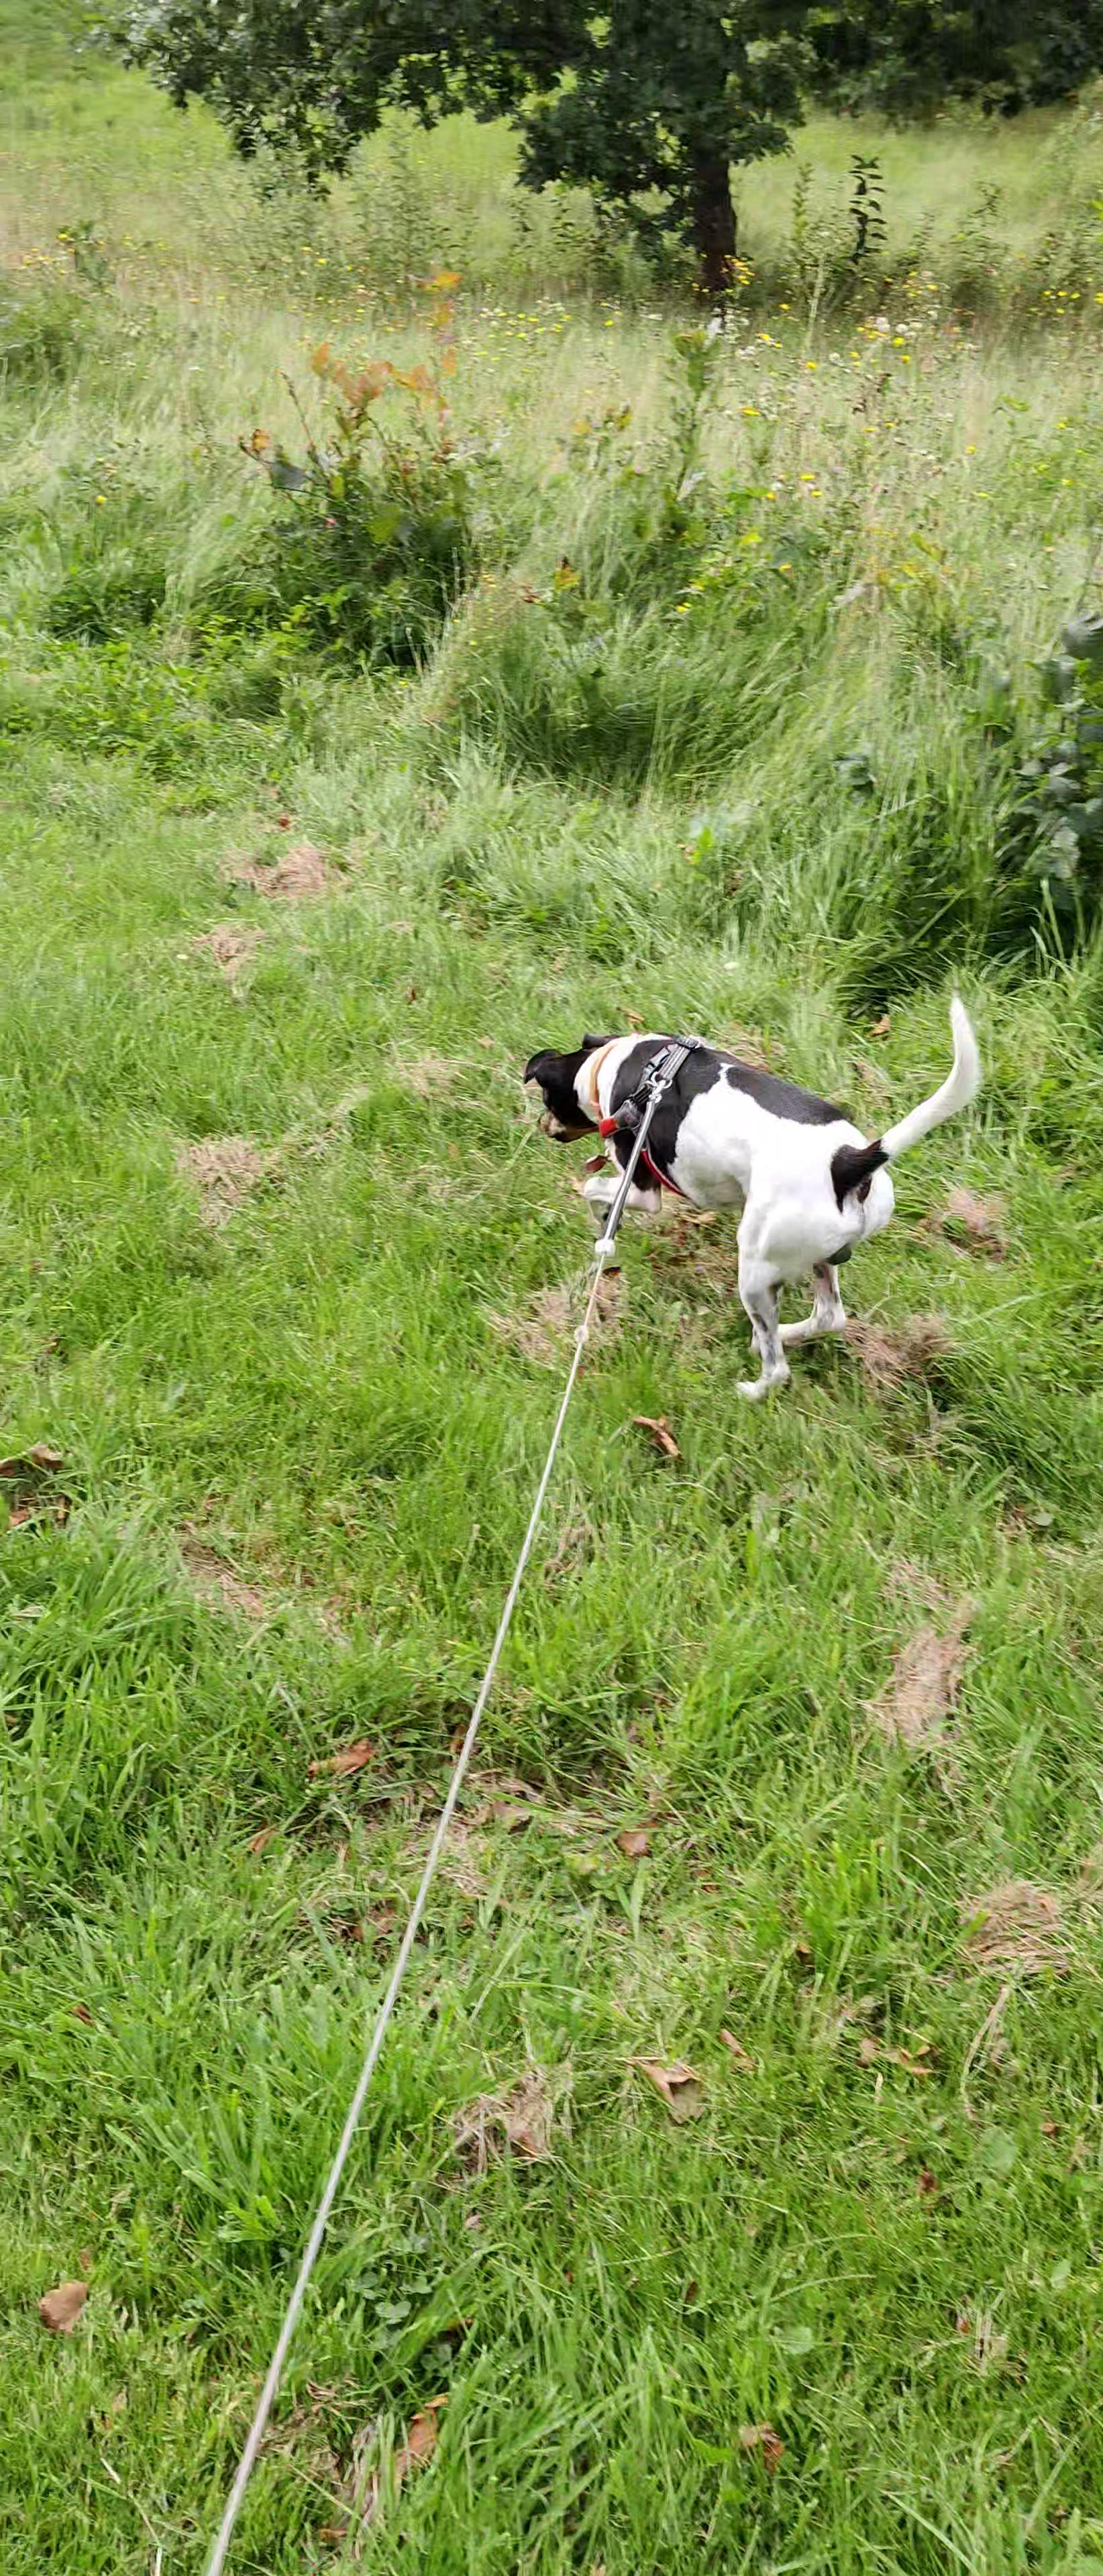Dog: (501, 956, 1014, 1426)
